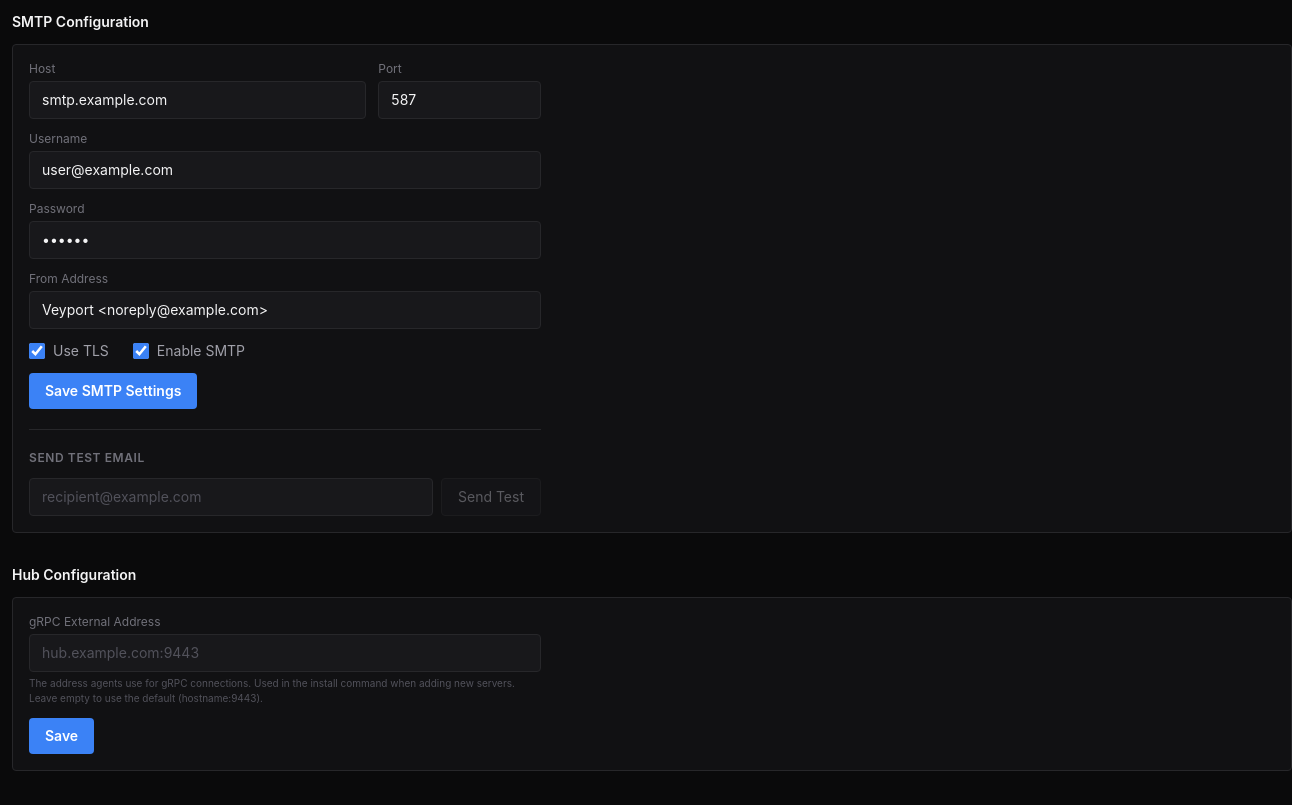
Scenario: NotificationsTab › Send Test button is enabled after typing a recipient
Type "test@example.com" into the field with placeholder "recipient@example.com" at (231, 497), box [29,478,433,516]
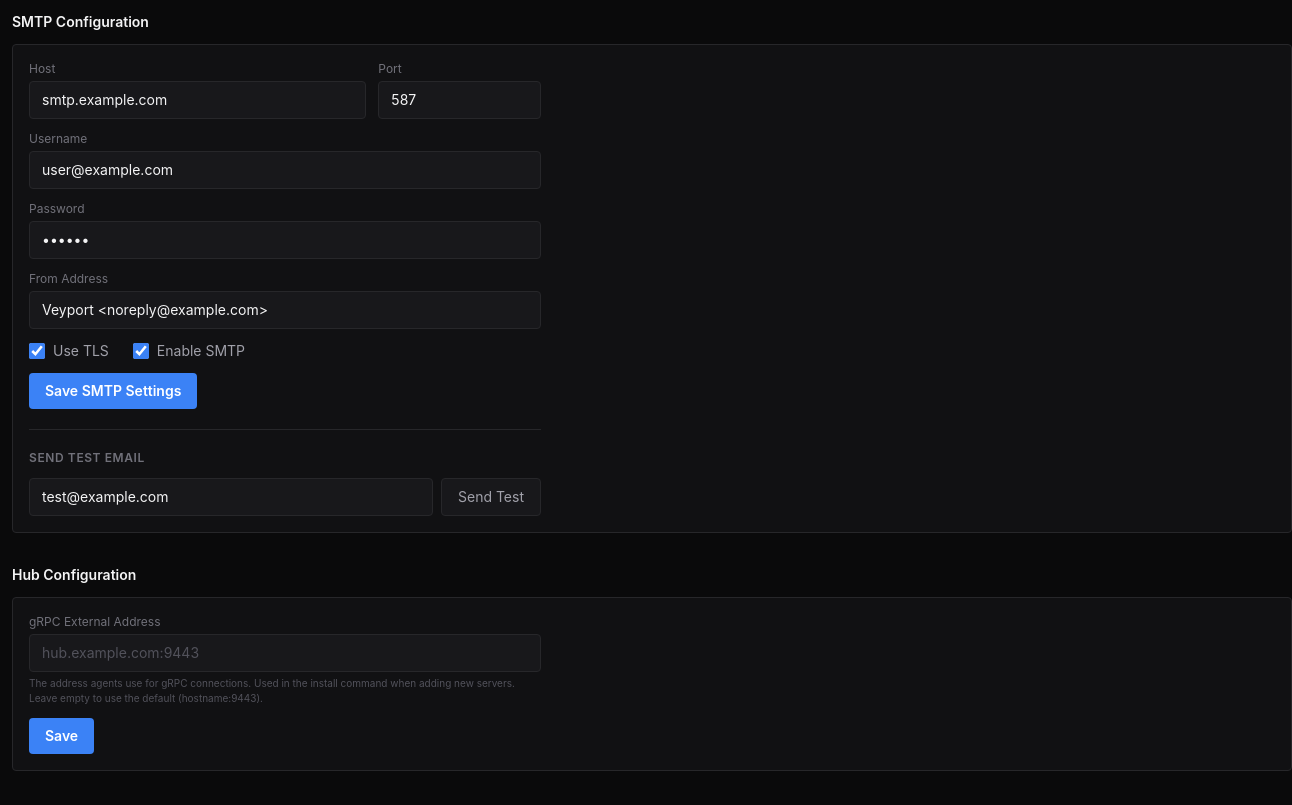
Result: the button "Send Test" is enabled at [441,478,541,516]
